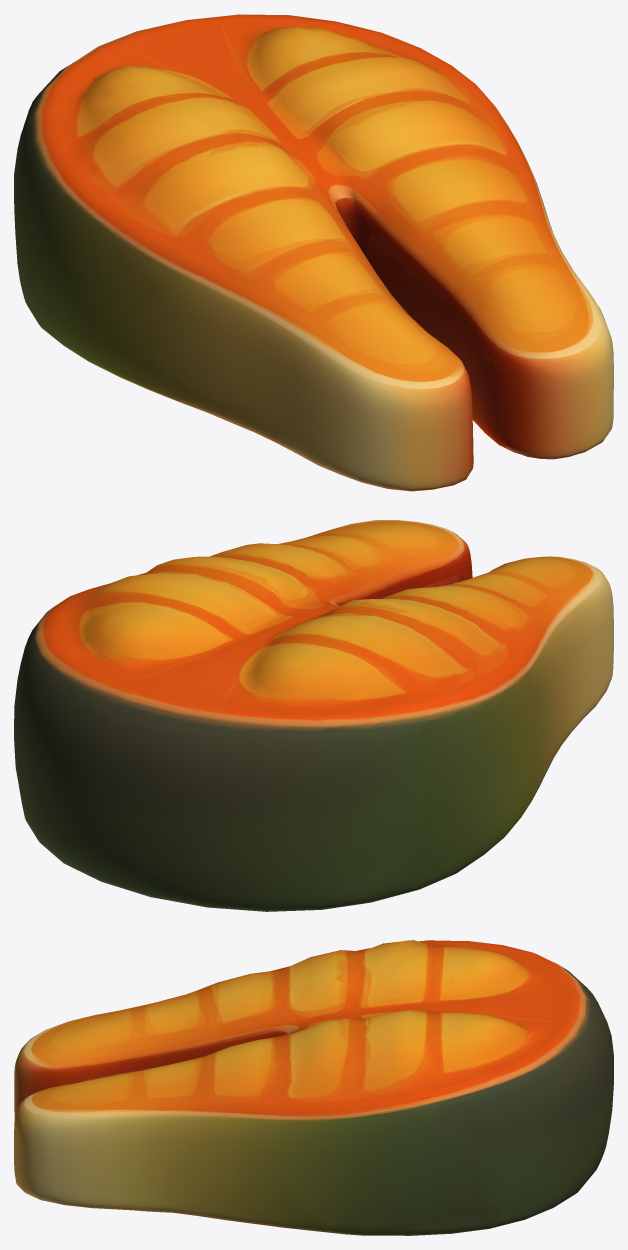
File: image_png_1121124940_texture.fbx
3 views of the same model, one above another, from view 1: azimuth 30°, elevation 25°; view 2: azimuth 150°, elevation 25°; view 3: azimuth 270°, elevation 25° (orthographic). The views are drawn at different scales.
Visible parts, largest first — view 1: input; view 2: input; view 3: input.
Part boxes in pixels (<box>): input: <box>14,14,613,491</box>; input: <box>14,520,613,911</box>; input: <box>14,940,613,1235</box>.
Bounding box in the file's own units: 131 × 59.17 × 191.
Materials: 1 (1 with a texture image).
